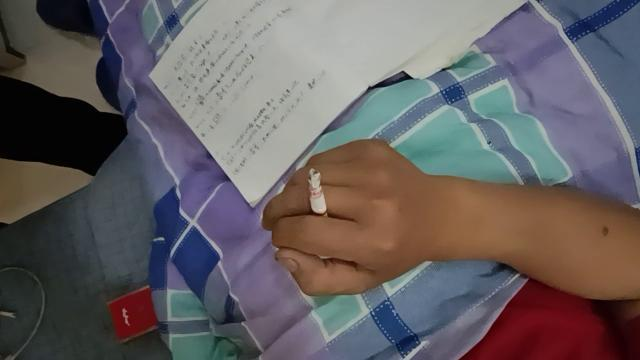Smoking: (307, 168, 331, 230)
